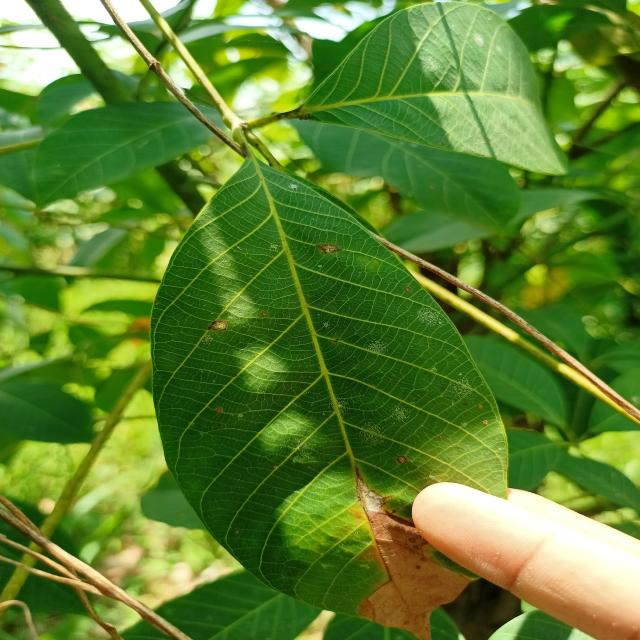Colletotrichum: (356, 478, 476, 640), (212, 319, 229, 331), (397, 454, 408, 464), (262, 311, 268, 317), (404, 287, 411, 292), (444, 558, 452, 562), (232, 373, 237, 378), (438, 434, 444, 438), (462, 402, 468, 405)
Corynespora: (316, 243, 342, 254), (383, 494, 393, 500)
